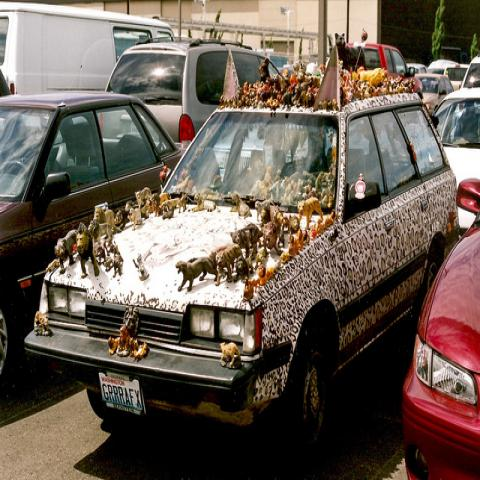car: (24, 94, 460, 463), (2, 86, 188, 334), (400, 177, 479, 479), (106, 38, 287, 143), (0, 1, 176, 99), (431, 87, 479, 241), (347, 45, 424, 92), (415, 72, 454, 114), (427, 59, 470, 92), (460, 54, 479, 91), (407, 63, 428, 74)
truck: (2, 0, 176, 99), (347, 40, 424, 101)
